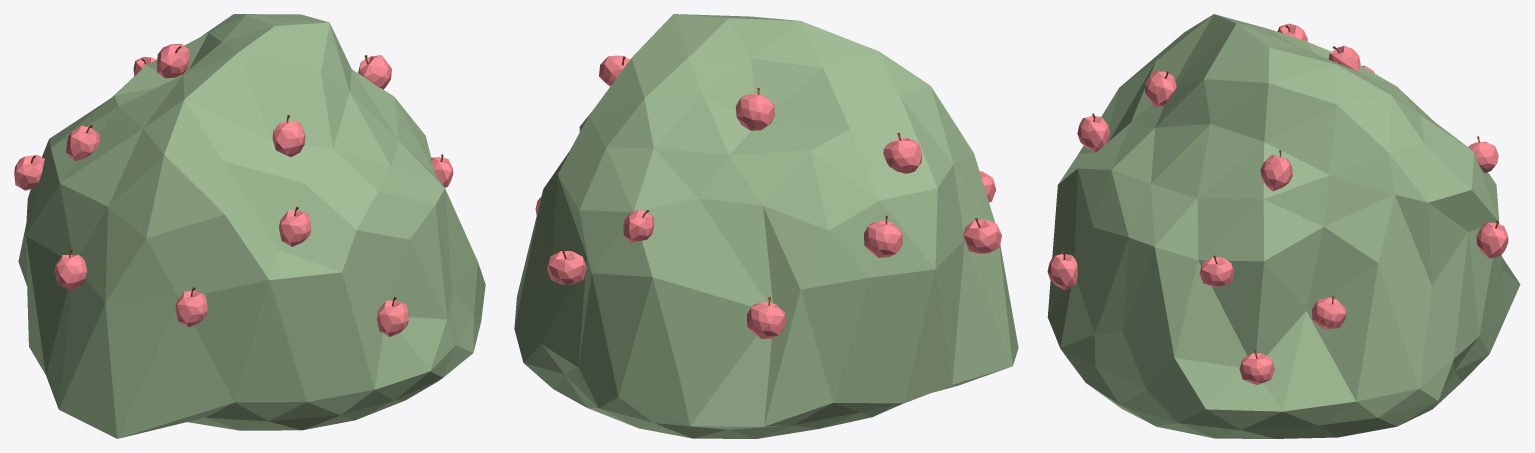
The model's file is berryBush.fbx.
3 views of the same model, side by side, from view 1: azimuth 30°, elevation 25°; view 2: azimuth 150°, elevation 25°; view 3: azimuth 270°, elevation 25° (orthographic). The views are drawn at different scales.
Visible parts, largest first — view 1: Icosphere.014; view 2: Icosphere.014; view 3: Icosphere.014.
Part boxes in pixels (<box>): Icosphere.014: <box>14,14,485,438</box>; Icosphere.014: <box>514,14,1018,438</box>; Icosphere.014: <box>1047,14,1520,438</box>.
Bounding box in the file's own units: 213 × 155 × 206.
